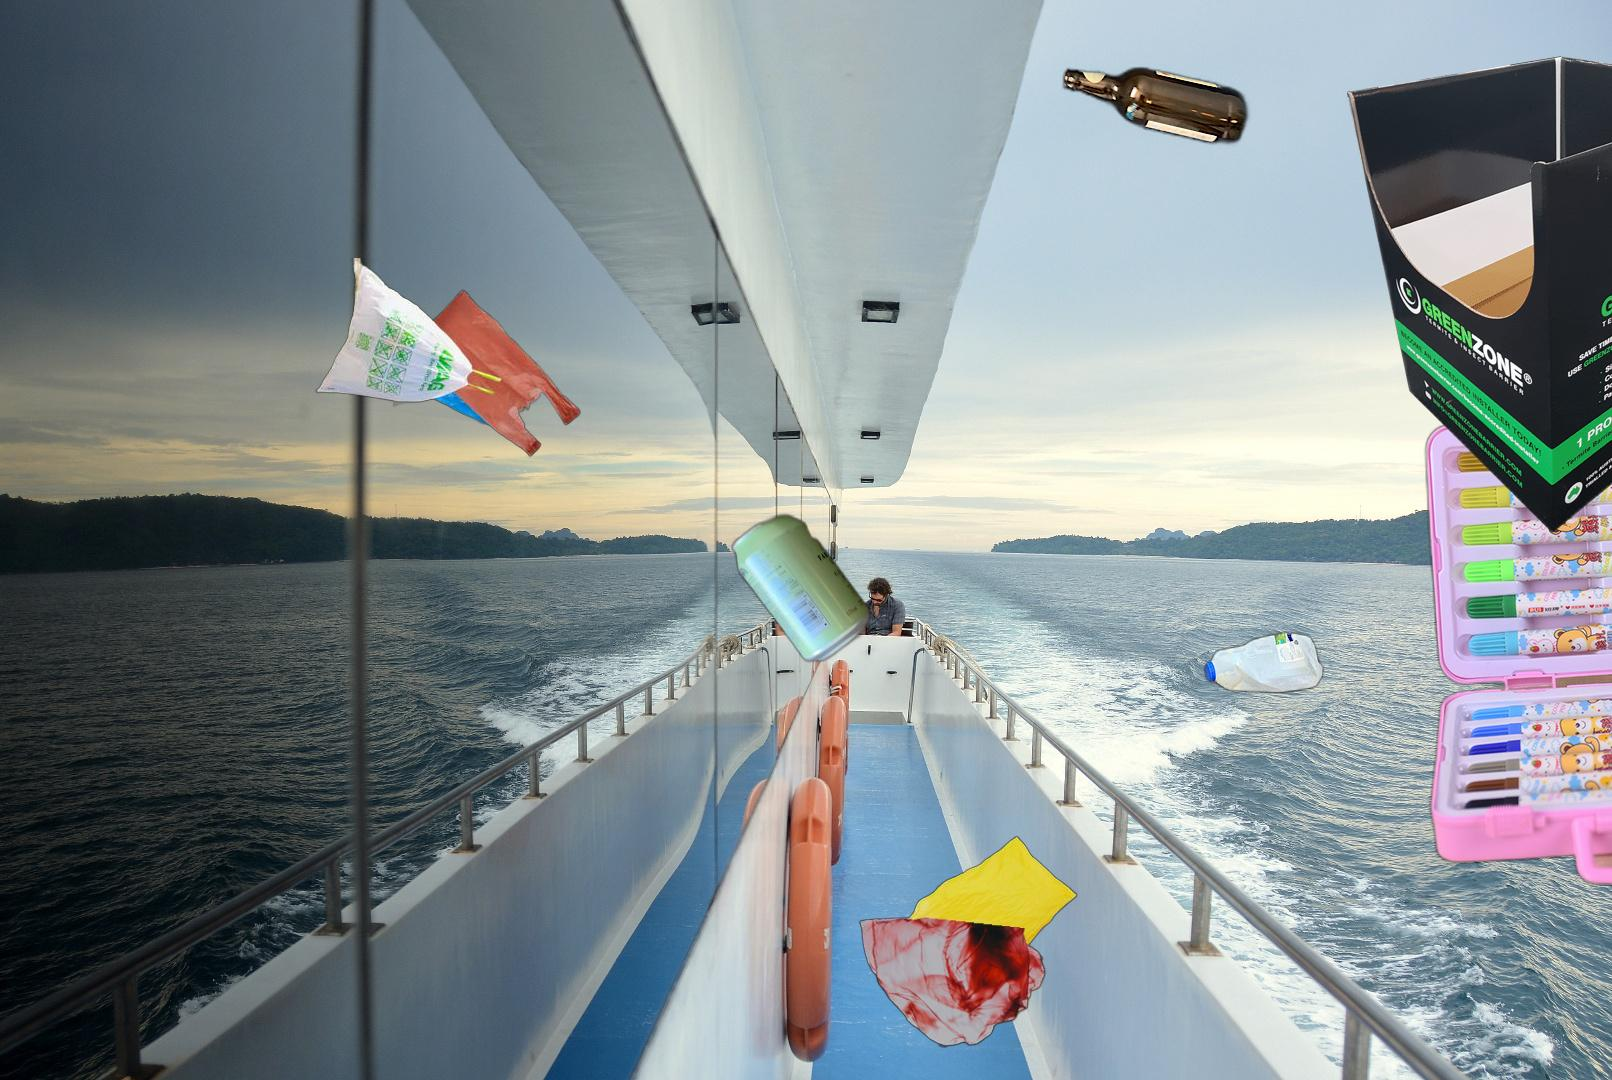glass: (1060, 61, 1254, 149)
metal-cans: (727, 509, 873, 668)
paper-bag: (80, 1074, 300, 1080)
penholder: (1420, 398, 1612, 890)
plastic-bag: (313, 258, 583, 459), (857, 833, 1080, 1051)
plastic-bottles: (1200, 333, 1540, 699)
trashbox-cardboard: (1347, 52, 1612, 534)
